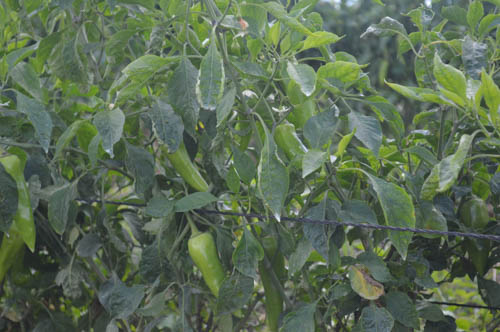ChiliPepper: (187, 230, 236, 313), (5, 157, 35, 249), (168, 146, 207, 190), (462, 198, 485, 269), (274, 128, 308, 163), (290, 83, 316, 128)
